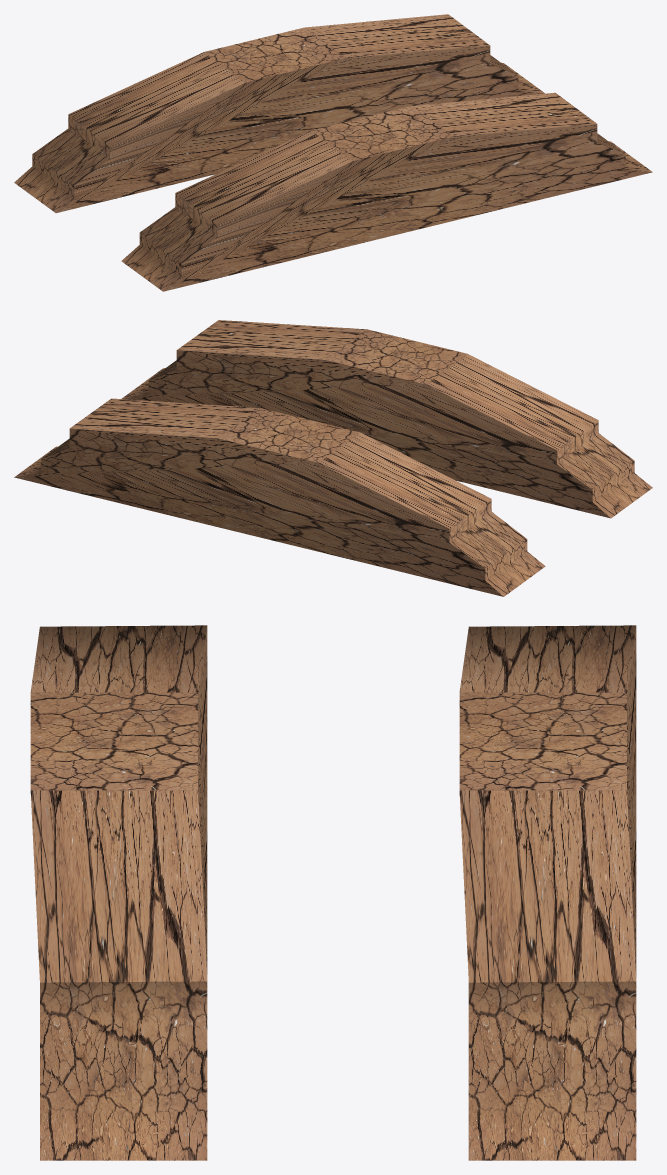
File: suelo.fbx
3 views of the same model, one above another, from view 1: azimuth 30°, elevation 25°; view 2: azimuth 150°, elevation 25°; view 3: azimuth 270°, elevation 25° (orthographic). The views are drawn at different scales.
Parts seen in each view (by area): view 1: Cube, Cube_1; view 2: Cube_1, Cube; view 3: Cube_1, Cube.
Boxes of the visible parts, left/top/right/bottom form: Cube: left=121, top=92, right=652, bottom=291; Cube_1: left=14, top=14, right=544, bottom=212; Cube_1: left=14, top=398, right=545, bottom=596; Cube: left=121, top=320, right=652, bottom=518; Cube_1: left=459, top=625, right=636, bottom=1160; Cube: left=30, top=625, right=207, bottom=1160.
Size of the model in its own units: 1452 by 245 by 778.
1 material, 1 textured.
